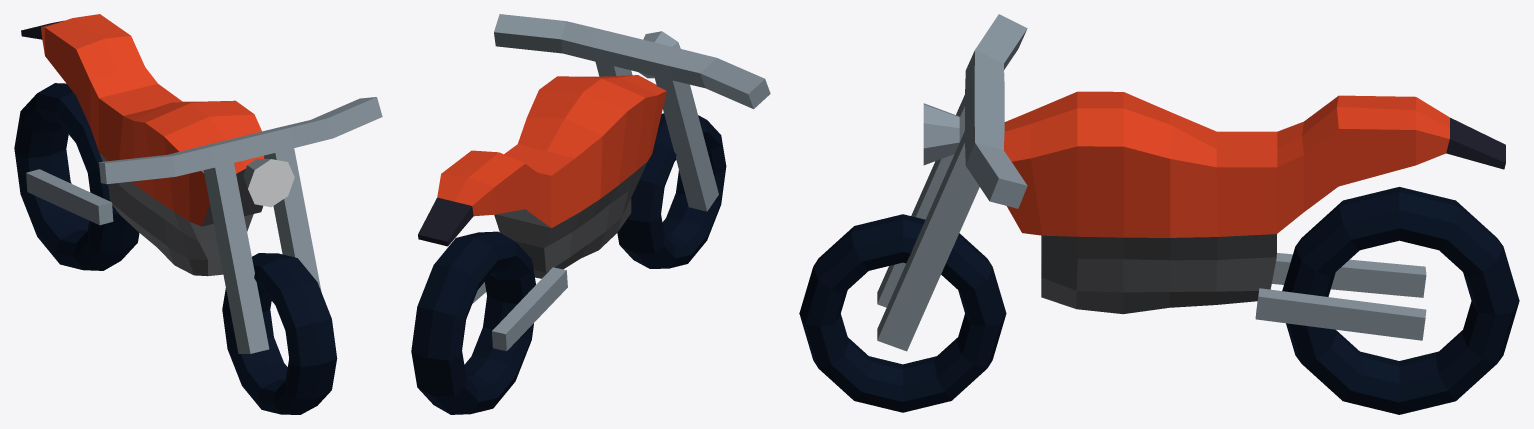
Rendered from bike.fbx.
The picture shows the model from 3 angles, left to right: view 1: azimuth 30°, elevation 25°; view 2: azimuth 150°, elevation 25°; view 3: azimuth 270°, elevation 25°; orthographic projection. The views are drawn at different scales.
Visible parts, largest first — view 1: Bike; view 2: Bike; view 3: Bike.
Part boxes in pixels (left/top/right/bottom): Bike: left=14, top=14, right=382, bottom=414; Bike: left=411, top=14, right=770, bottom=414; Bike: left=799, top=14, right=1519, bottom=414.
Bounding box in the file's own units: 128 × 112 × 233.
